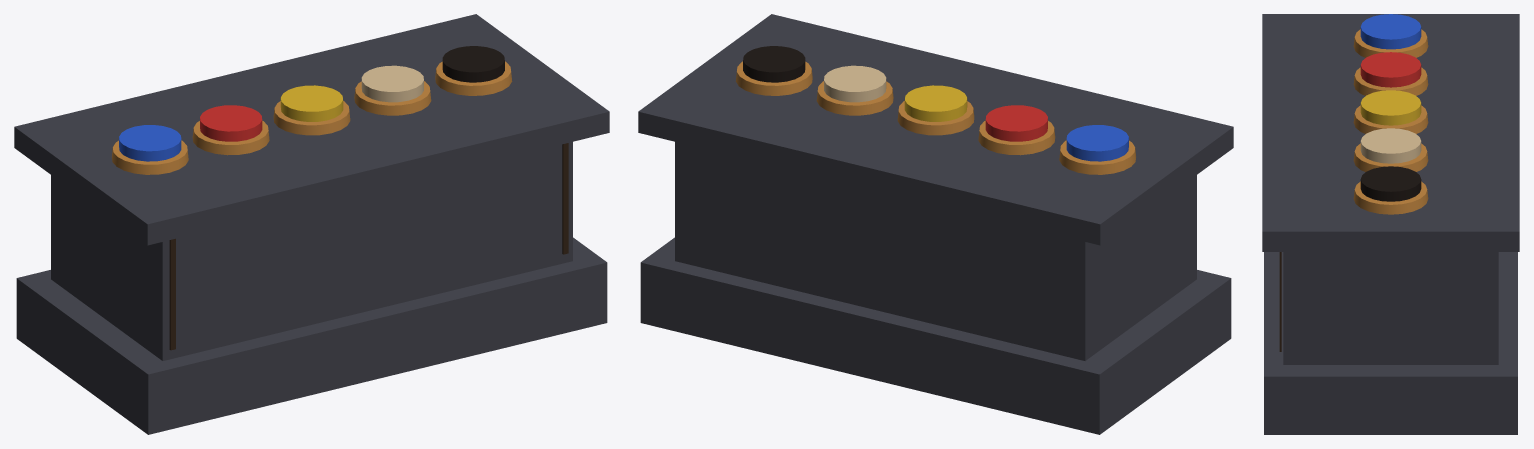
File: mia-altar_stone.glb
3 renders of one model, left to right at view 1: azimuth 30°, elevation 25°; view 2: azimuth 150°, elevation 25°; view 3: azimuth 270°, elevation 25°, orthographic. The views are drawn at different scales.
Parts seen in each view (by area): view 1: Body_stone, Body_brass, Body_flag-yellow, Body_ivory, Body_flag-blue, Body_flag-red, Body_black, Body_grain; view 2: Body_stone, Body_brass, Body_flag-yellow, Body_ivory, Body_flag-blue, Body_flag-red, Body_black; view 3: Body_stone, Body_brass, Body_flag-yellow, Body_black, Body_flag-blue, Body_flag-red, Body_ivory, Body_grain.
Part boxes in pixels (left/top/right/bottom): Body_stone: left=14, top=14, right=609, bottom=434; Body_brass: left=112, top=61, right=512, bottom=174; Body_flag-yellow: left=280, top=85, right=343, bottom=121; Body_ivory: left=361, top=65, right=423, bottom=102; Body_flag-blue: left=119, top=125, right=181, bottom=161; Body_flag-red: left=200, top=105, right=262, bottom=141; Body_black: left=442, top=46, right=504, bottom=82; Body_grain: left=169, top=143, right=568, bottom=350; Body_stone: left=638, top=14, right=1233, bottom=434; Body_brass: left=735, top=61, right=1135, bottom=174; Body_flag-yellow: left=904, top=85, right=967, bottom=121; Body_ivory: left=824, top=65, right=886, bottom=102; Body_flag-blue: left=1066, top=125, right=1128, bottom=161; Body_flag-red: left=985, top=105, right=1047, bottom=141; Body_black: left=743, top=46, right=805, bottom=82; Body_stone: left=1262, top=14, right=1519, bottom=434; Body_brass: left=1353, top=29, right=1428, bottom=214; Body_flag-yellow: left=1360, top=90, right=1421, bottom=125; Body_black: left=1360, top=166, right=1421, bottom=201; Body_flag-blue: left=1360, top=14, right=1421, bottom=49; Body_flag-red: left=1360, top=52, right=1421, bottom=87; Body_ivory: left=1360, top=128, right=1421, bottom=163; Body_grain: left=1279, top=252, right=1281, bottom=351.
Size of the model in its own units: 1.6 by 0.768 by 0.8.
